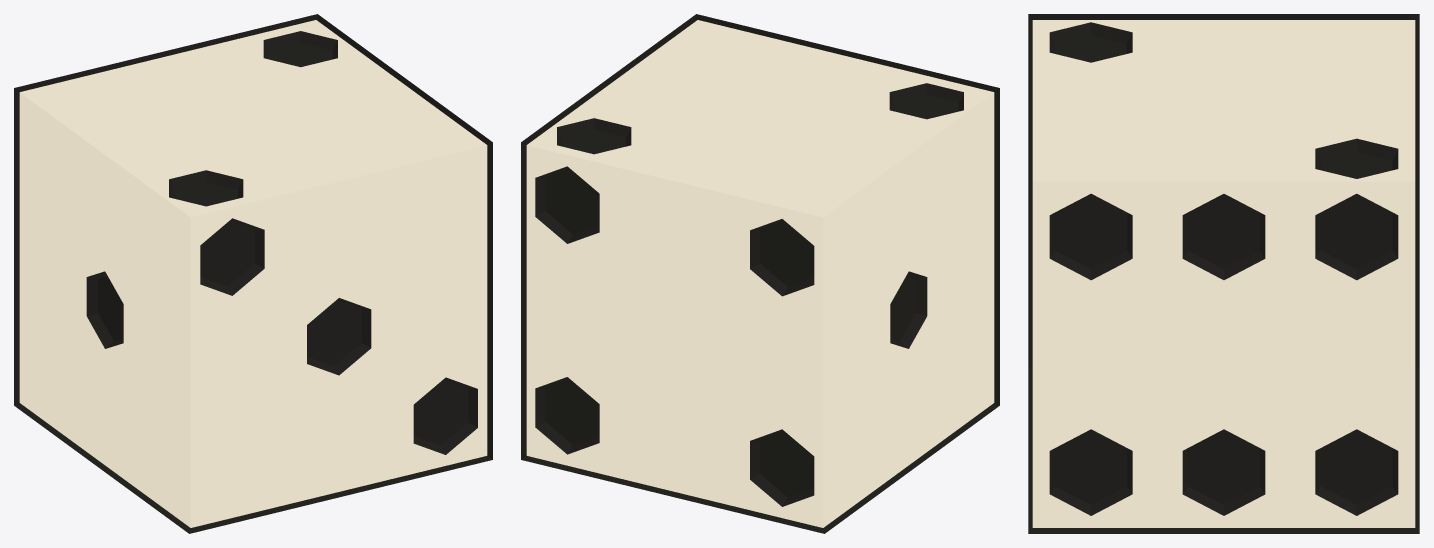
Rendered from dice.glb.
The picture shows the model from 3 angles, left to right: view 1: azimuth 30°, elevation 25°; view 2: azimuth 150°, elevation 25°; view 3: azimuth 270°, elevation 25°; orthographic projection. The views are drawn at different scales.
Visible parts, largest first — view 1: die, border; view 2: die, border; view 3: die, border.
Boxes of the visible parts, box(x1,y1,x2,y2) form: die: box(19, 20, 487, 527); border: box(14, 14, 492, 533); die: box(526, 20, 994, 527); border: box(521, 14, 999, 533); die: box(1032, 20, 1415, 527); border: box(1028, 14, 1419, 533).
Bounding box in the file's own units: 2.05 × 2.05 × 2.05.
